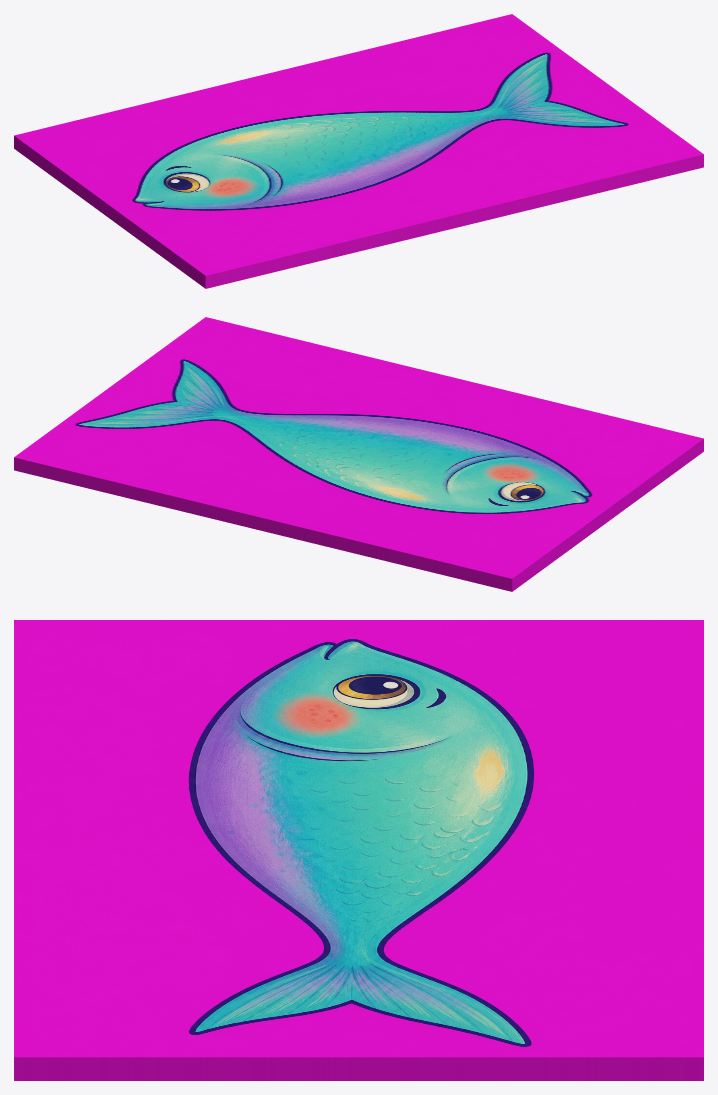
File: fish_body.glb
3 renders of one model, top to bottom at view 1: azimuth 30°, elevation 25°; view 2: azimuth 150°, elevation 25°; view 3: azimuth 270°, elevation 25°, orthographic. The views are drawn at different scales.
Parts seen in each view (by area): view 1: fish_body; view 2: fish_body; view 3: fish_body.
Boxes of the visible parts, x1,y1,x2,y2 form: fish_body: (14,14,703,288); fish_body: (14,317,703,591); fish_body: (14,620,703,1080).
Size of the model in its own units: 2 by 0.05 by 1.33.
Materials: 1 (1 with a texture image).
